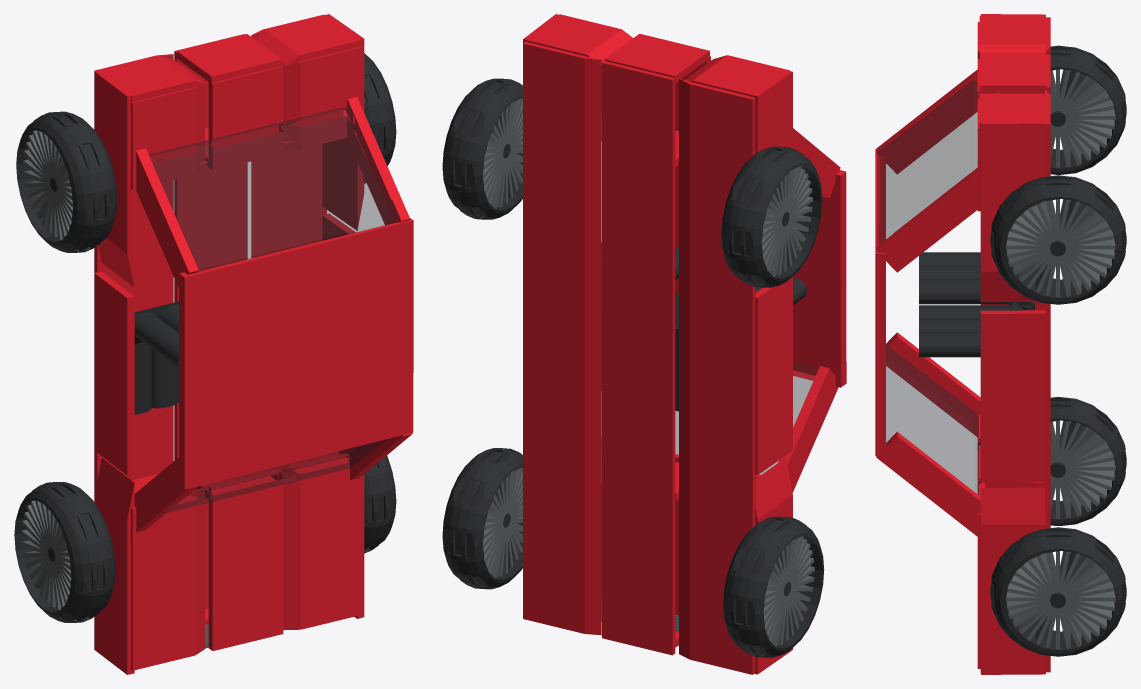
The model's file is tinker.obj.
The picture shows the model from 3 angles, left to right: view 1: azimuth 30°, elevation 25°; view 2: azimuth 150°, elevation 25°; view 3: azimuth 270°, elevation 25°; orthographic projection. The views are drawn at different scales.
Parts seen in each view (by area): view 1: group_0_15277357, group_0_-1037357519, group_0_2829873, group_0_6383466; view 2: group_0_15277357, group_0_2829873, group_0_6383466, group_0_-1037357519; view 3: group_0_15277357, group_0_2829873, group_0_6383466, group_0_-1037357519.
Part boxes in pixels (x1,y1,x2,y2): group_0_15277357: (94,14,413,674); group_0_-1037357519: (149,106,400,512); group_0_2829873: (14,53,396,622); group_0_6383466: (21,130,208,648); group_0_15277357: (523,14,846,674); group_0_2829873: (442,78,824,657); group_0_6383466: (483,98,814,646); group_0_-1037357519: (675,361,818,474); group_0_15277357: (875,14,1050,674); group_0_2829873: (919,45,1126,656); group_0_6383466: (1006,69,1115,649); group_0_-1037357519: (877,79,980,494).
Size of the model in its own units: 92 by 157 by 65.
